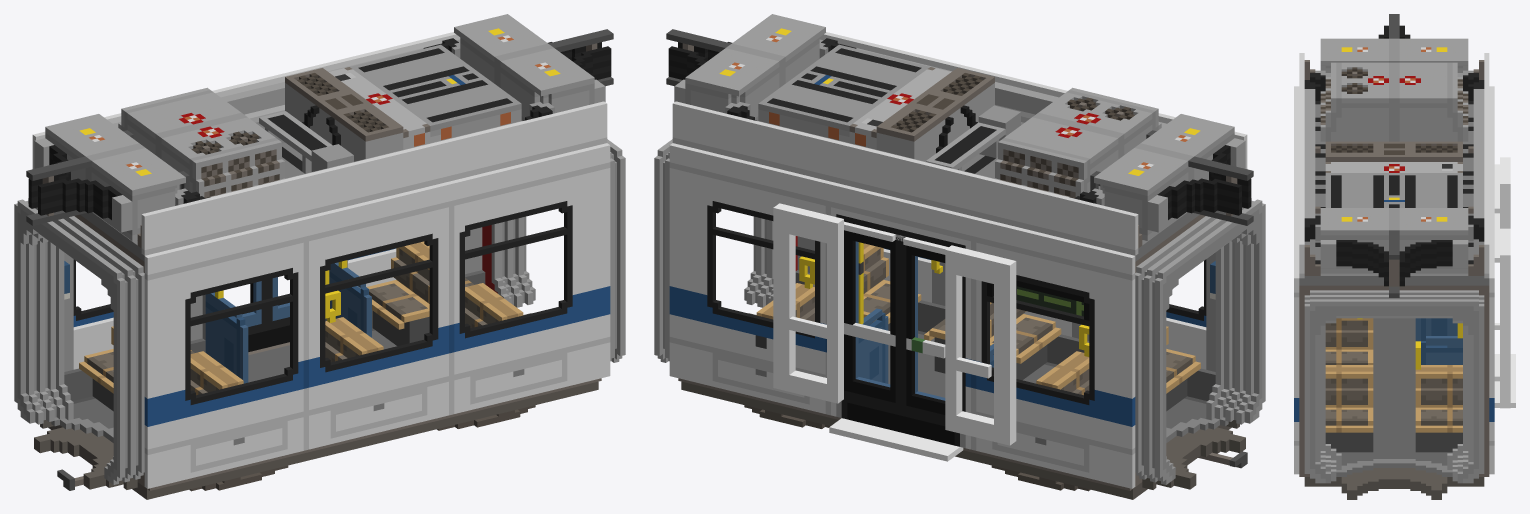
File: vbg3.obj
3 views of the same model, side by side, from view 1: azimuth 30°, elevation 25°; view 2: azimuth 150°, elevation 25°; view 3: azimuth 270°, elevation 25° (orthographic). The views are drawn at different scales.
Visible parts, largest first — view 1: FRAME, closed; view 2: FRAME, open, closed; view 3: FRAME, open.
Boxes of the visible parts, left/top/right/bottom form: FRAME: left=14, top=14, right=625, bottom=499; closed: left=233, top=277, right=289, bottom=351; FRAME: left=654, top=14, right=1265, bottom=499; open: left=773, top=203, right=1016, bottom=461; closed: left=836, top=214, right=965, bottom=446; FRAME: left=1294, top=14, right=1494, bottom=499; open: left=1494, top=157, right=1515, bottom=408.
Size of the model in its own units: 6.75 by 3.69 by 2.62.
Materials: 3 (3 with a texture image).
